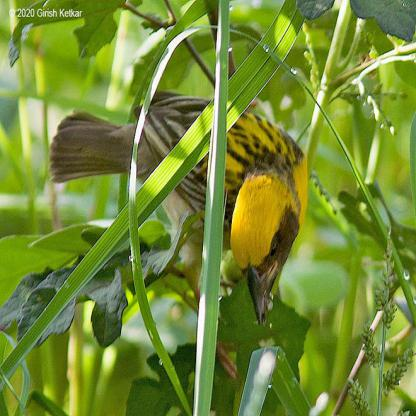Burung: (50, 91, 309, 328)
